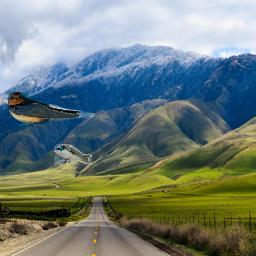Swallow: (6, 90, 94, 125), (54, 144, 92, 165)
